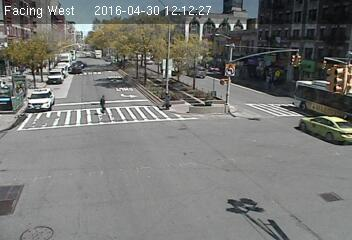neg: (228, 182, 261, 226), (10, 90, 40, 131), (254, 46, 284, 86), (159, 161, 189, 200), (16, 171, 44, 209), (235, 124, 263, 161), (116, 37, 143, 73), (289, 171, 316, 205), (53, 32, 79, 67), (74, 134, 98, 166), (321, 102, 340, 127), (23, 49, 40, 72), (189, 83, 203, 102), (222, 51, 235, 68)
pos: (95, 93, 113, 117)
